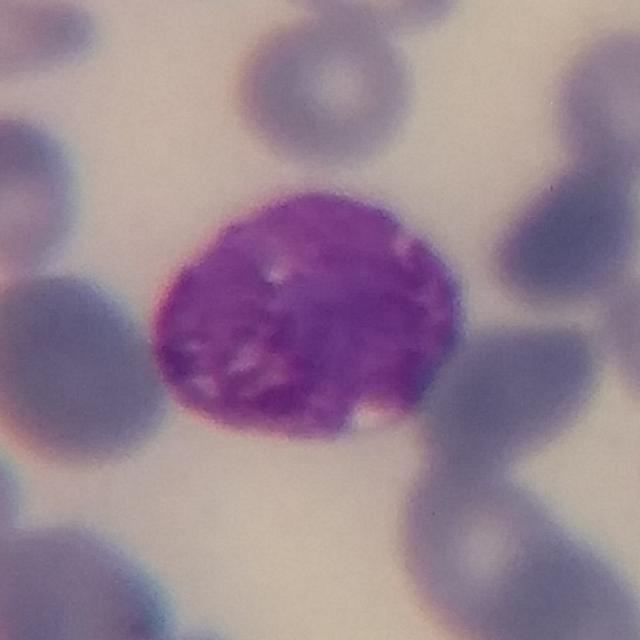baso: (147, 175, 471, 438)
